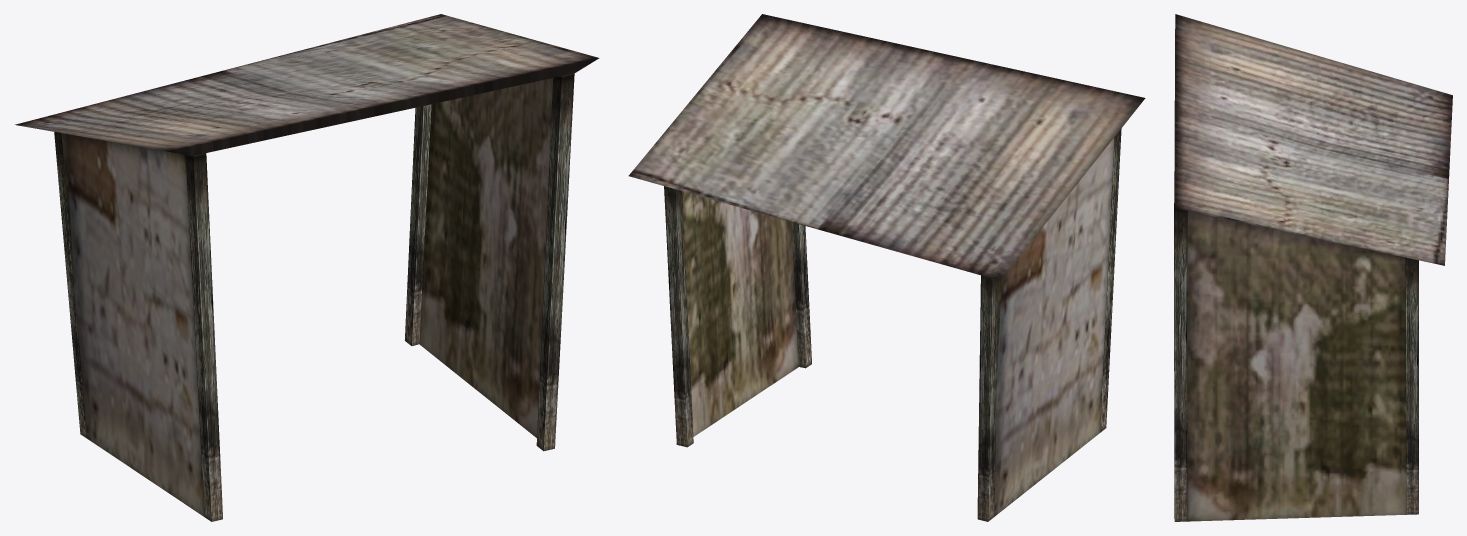
Rendered from MogShd1.glb.
The picture shows the model from 3 angles, left to right: view 1: azimuth 30°, elevation 25°; view 2: azimuth 150°, elevation 25°; view 3: azimuth 270°, elevation 25°; orthographic projection. The views are drawn at different scales.
Parts seen in each view (by area): view 1: _MogShd1; view 2: _MogShd1; view 3: _MogShd1.
Part boxes in pixels (x1,y1,x2,y2): _MogShd1: (15,14,599,521); _MogShd1: (628,14,1145,521); _MogShd1: (1174,14,1452,521).
Bounding box in the file's own units: 3.7 × 3.2 × 2.36.
2 materials, 2 textured.
